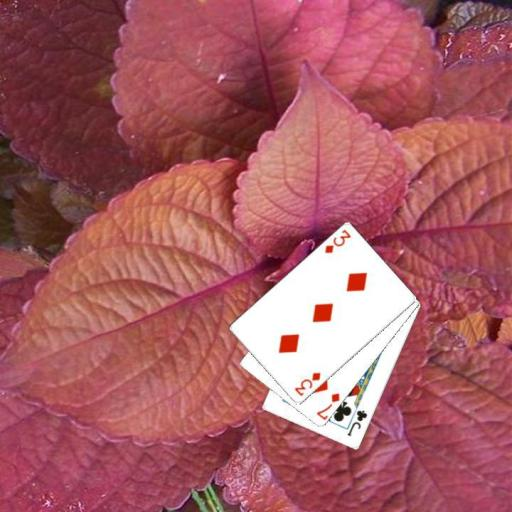3D: (291, 369, 322, 398), (321, 227, 353, 255)
7D: (313, 390, 341, 421)
JC: (344, 408, 369, 438)
